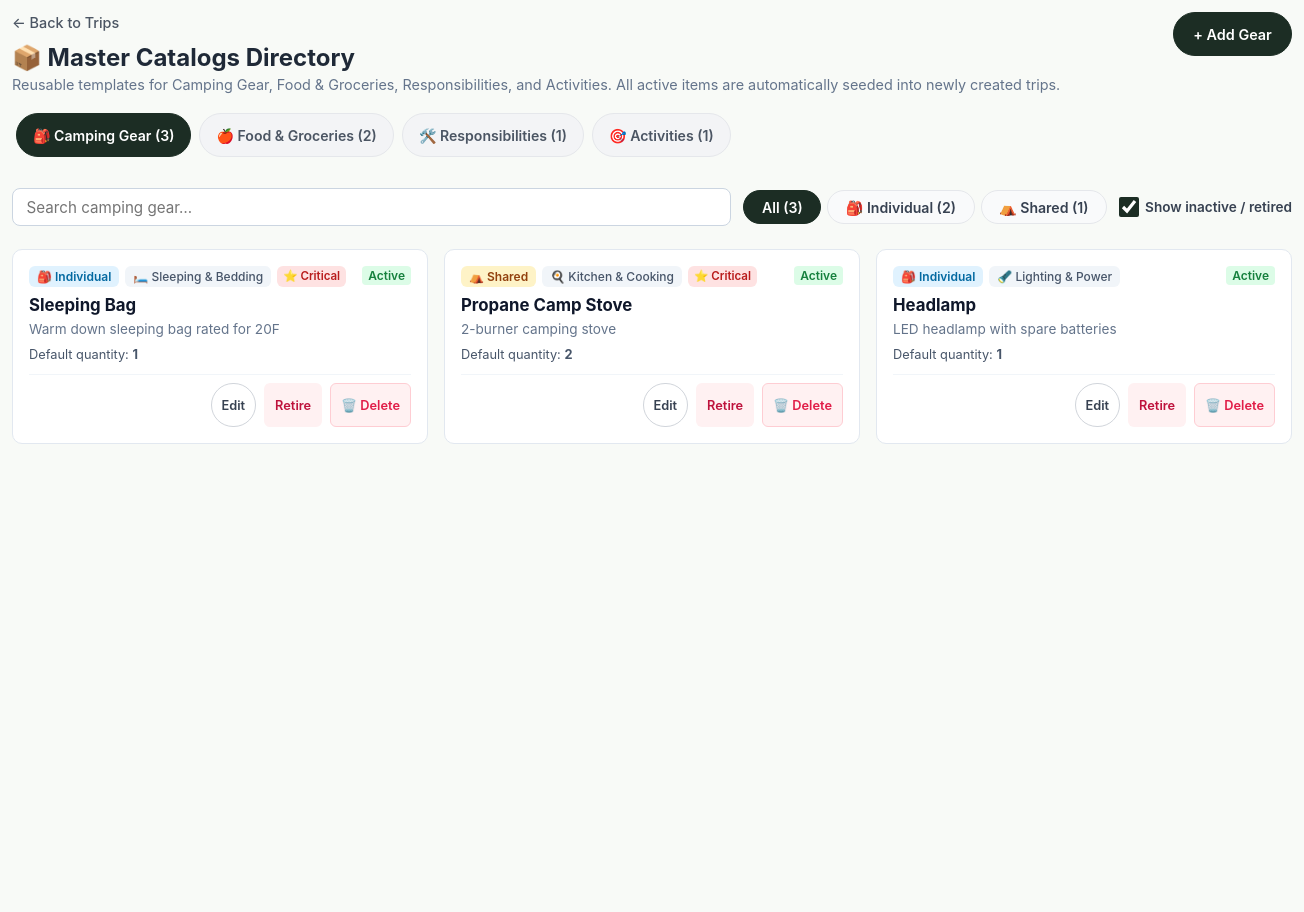
it: MasterCatalogPage › switches tabs to Food & Groceries and Responsibilities
This screenshot has width=1304, height=912.
Expected: the heading "Sleeping Bag" is shown, [29,295,136,315]
# Switch to Food & Groceries
Click the tab "🍎 Food & Groceries (2)" at (297, 135), box [199,113,394,157]
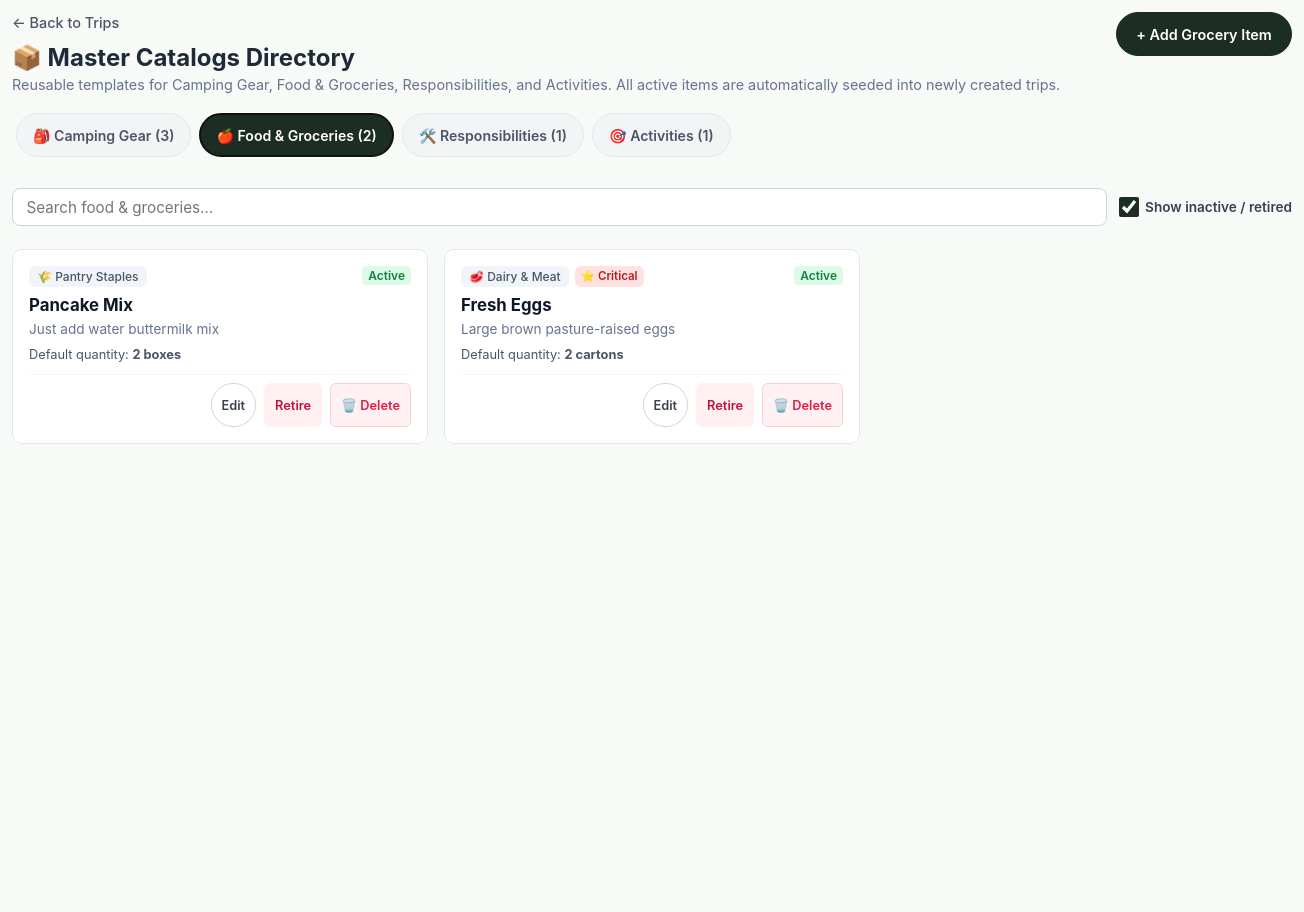
Now the heading "Pancake Mix" is shown, box [29,295,133,315]
Now the heading "Fresh Eggs" is shown, box [461,295,552,315]
Now the heading "Sleeping Bag" is gone
# Switch to Responsibilities
Click the tab "🛠️ Responsibilities (1)" at (493, 135), box [402,113,584,157]
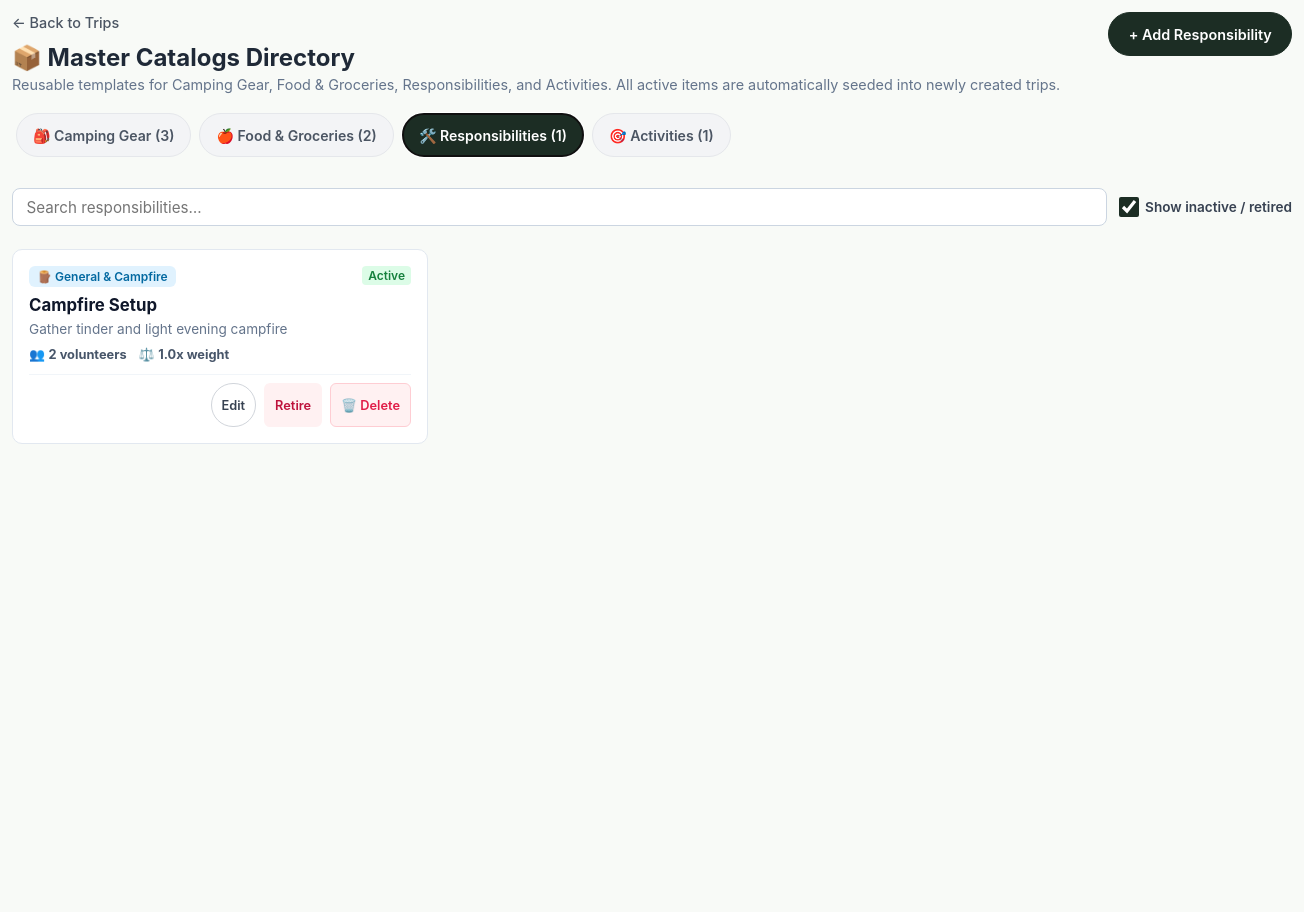
Now the heading "Campfire Setup" is shown, box [29,295,157,315]
Now the heading "Pancake Mix" is gone
# Switch to Activities
Click the tab "🎯 Activities (1)" at (661, 135), box [592,113,731,157]
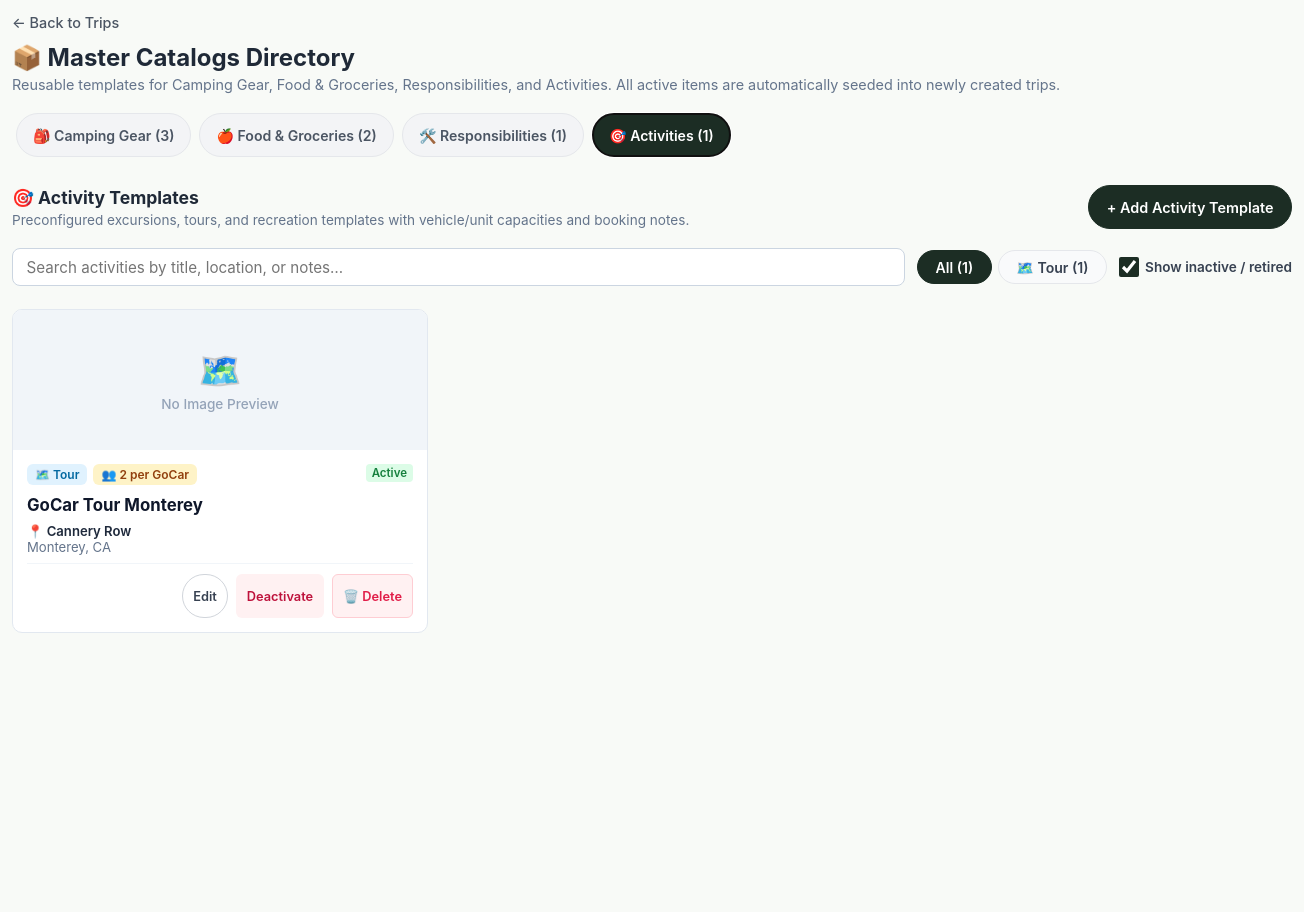
Now the heading "GoCar Tour Monterey" is shown, box [27,495,203,515]
Now the text "👥 2 per GoCar" is shown, box [93,464,197,485]
Now the button "+ Add Activity Template" is shown, box [1088,185,1292,229]
